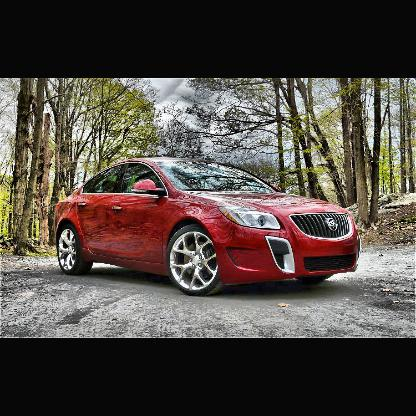Buick Regal GS 2012: (54, 158, 362, 296)
